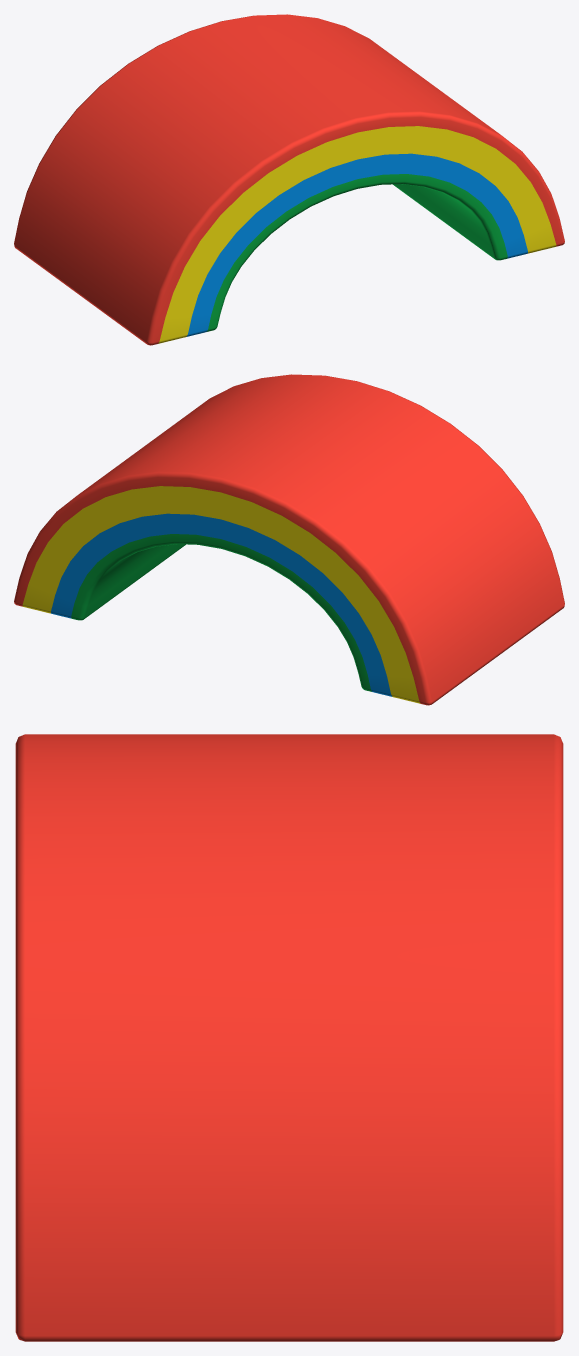
The model's file is Store_9_Toy_Rainbow.glb.
The picture shows the model from 3 angles, top to bottom: view 1: azimuth 30°, elevation 25°; view 2: azimuth 150°, elevation 25°; view 3: azimuth 270°, elevation 25°; orthographic projection. The views are drawn at different scales.
Visible parts, largest first — view 1: Store_9_Toy_Rainbow; view 2: Store_9_Toy_Rainbow; view 3: Store_9_Toy_Rainbow.
Part boxes in pixels (left/top/right/bottom): Store_9_Toy_Rainbow: left=14, top=14, right=564, bottom=345; Store_9_Toy_Rainbow: left=14, top=374, right=564, bottom=705; Store_9_Toy_Rainbow: left=15, top=734, right=563, bottom=1341.
Size of the model in its own units: 3.99 by 1.62 by 2.27.
1 material, 1 textured.
